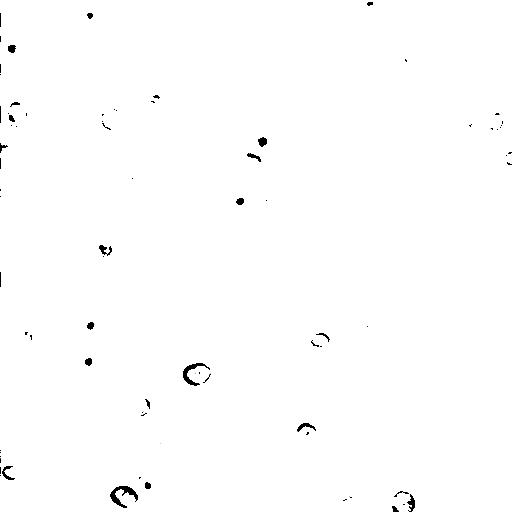micro-algae: (145, 319, 229, 401), (138, 397, 199, 455), (108, 162, 162, 214), (267, 362, 311, 406), (316, 271, 358, 313), (442, 277, 482, 318), (460, 303, 499, 341), (403, 187, 438, 220), (1, 96, 34, 128), (244, 125, 276, 155), (167, 325, 200, 353), (357, 313, 389, 341), (0, 39, 27, 68), (97, 107, 127, 133), (182, 362, 212, 387), (130, 469, 158, 495), (109, 486, 140, 509), (81, 310, 108, 335), (124, 162, 150, 187), (266, 95, 291, 121), (253, 131, 279, 156), (15, 326, 41, 351), (260, 177, 284, 204), (294, 420, 318, 447), (391, 490, 417, 512), (75, 349, 99, 372), (239, 152, 264, 174), (75, 3, 98, 26), (0, 267, 23, 290), (149, 441, 172, 463), (130, 396, 152, 418), (335, 494, 361, 512), (0, 143, 17, 169), (485, 112, 505, 133), (1, 464, 25, 481), (96, 236, 113, 258), (311, 332, 331, 349), (174, 421, 192, 439), (461, 122, 479, 140), (361, 0, 382, 12), (395, 55, 409, 73), (450, 73, 464, 90), (232, 196, 248, 206), (503, 150, 512, 166)
